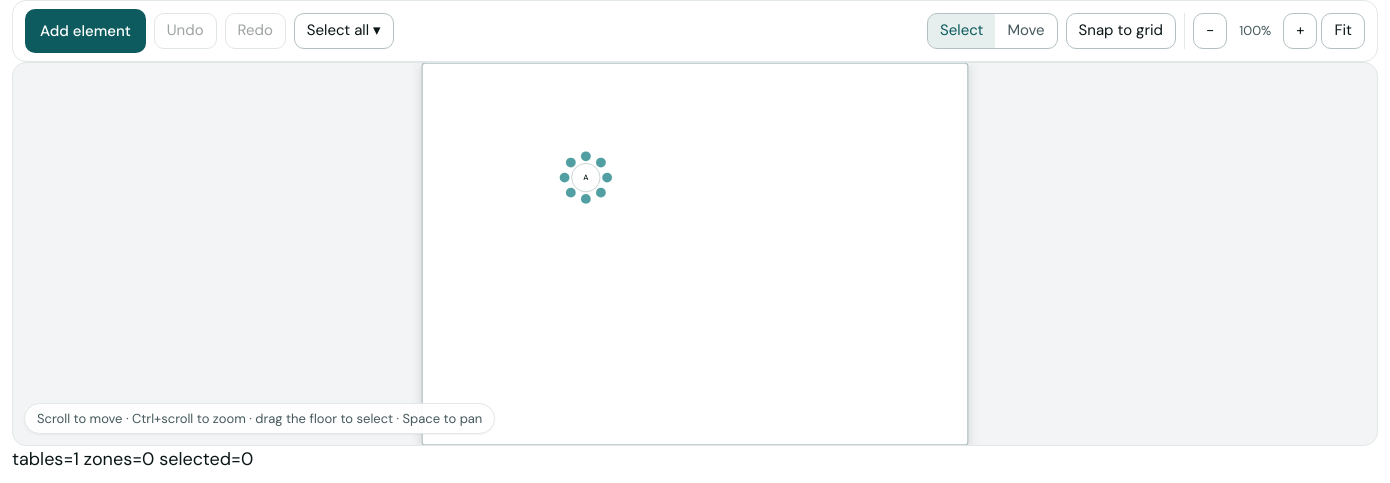
Test: Select all, narrowed › the count is shown before the click, so an empty filter is visibly empty
Click the button "Select all ▾".
click(344, 31)  # box left=294, top=13, right=394, bottom=49
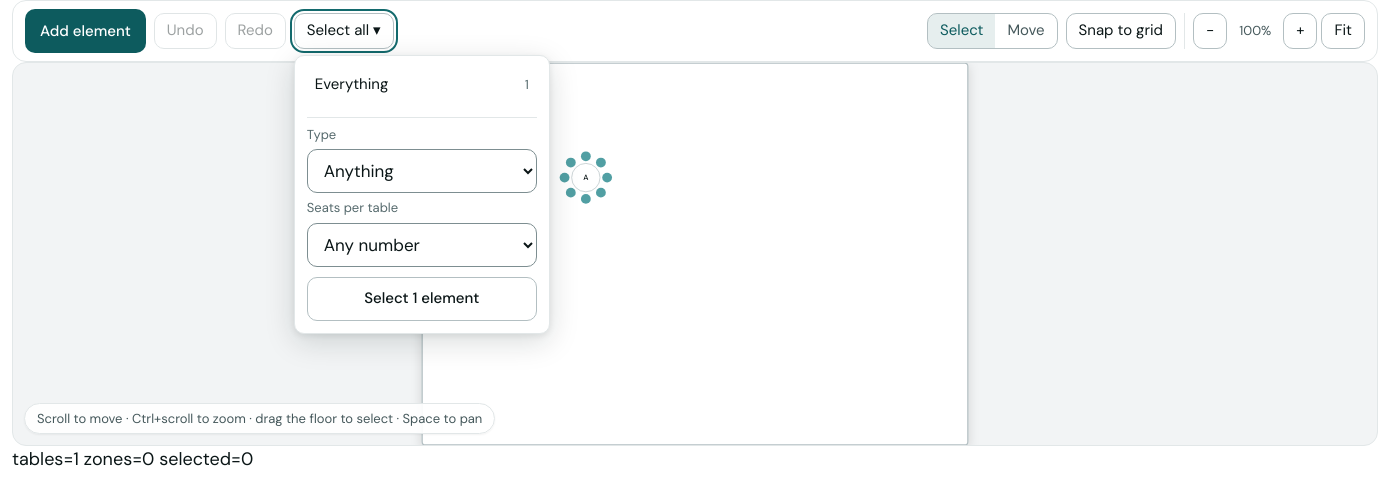
Select "All venue zones" in the dropdown labelled "Type" at {"x": 422, "y": 172}, box left=307, top=150, right=537, bottom=194
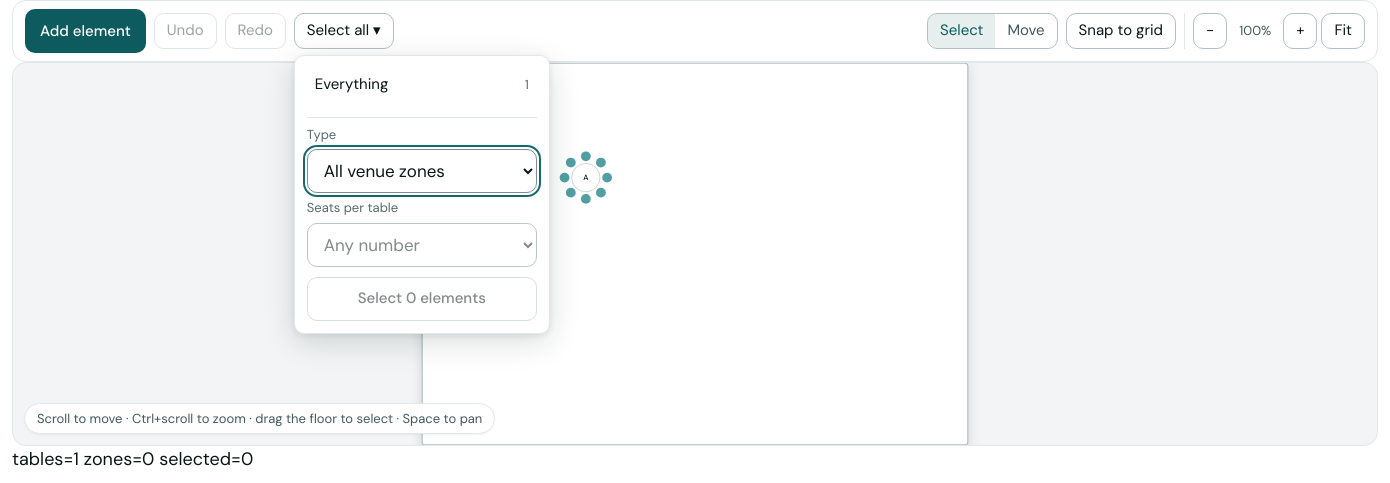
Expected: the button "Select 0 elements" is disabled, left=307, top=277, right=537, bottom=321
